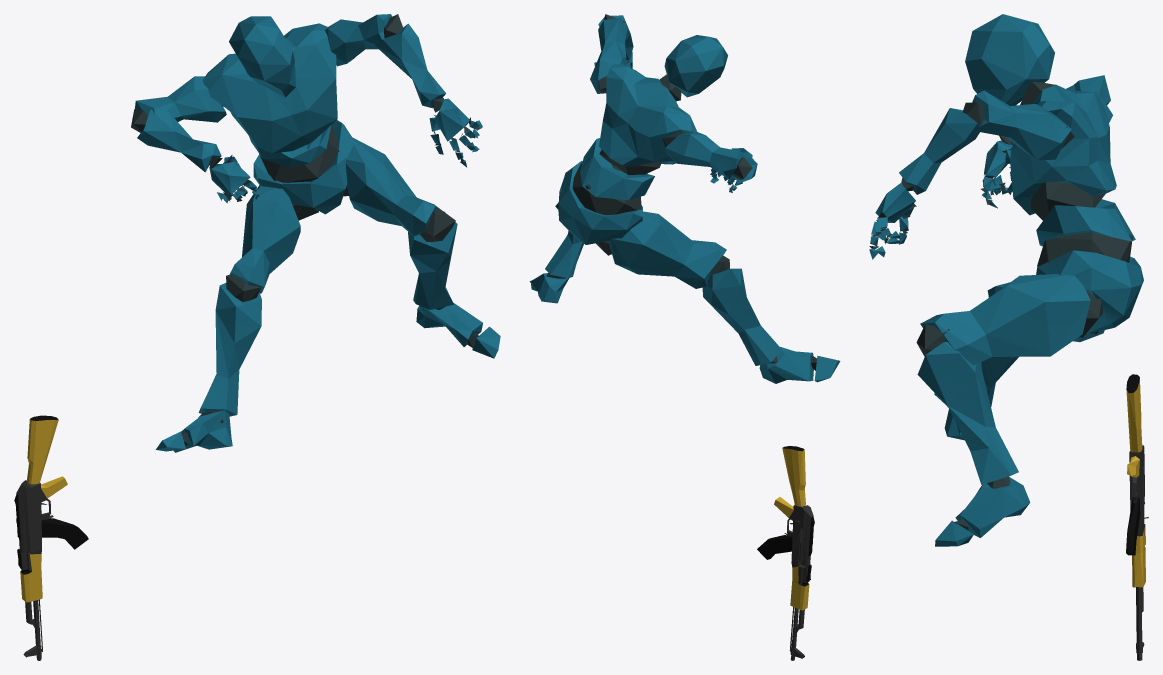
Rendered from EnemyDying_000086.obj.
3 renders of one model, left to right at view 1: azimuth 30°, elevation 25°; view 2: azimuth 150°, elevation 25°; view 3: azimuth 270°, elevation 25°, orthographic. The views are drawn at different scales.
Parts seen in each view (by area): view 1: Alpha_Surface, AK-47_Cube, Alpha_Joints; view 2: Alpha_Surface, AK-47_Cube, Alpha_Joints; view 3: Alpha_Surface, Alpha_Joints, AK-47_Cube.
Boxes of the visible parts, left/top/right/bottom form: Alpha_Surface: left=135, top=14, right=500, bottom=452; AK-47_Cube: left=14, top=415, right=88, bottom=660; Alpha_Joints: left=131, top=14, right=481, bottom=445; Alpha_Surface: left=529, top=15, right=840, bottom=383; AK-47_Cube: left=757, top=446, right=814, bottom=660; Alpha_Joints: left=546, top=14, right=816, bottom=370; Alpha_Surface: left=869, top=14, right=1143, bottom=546; Alpha_Joints: left=869, top=82, right=1132, bottom=530; AK-47_Cube: left=1126, top=374, right=1148, bottom=660.
Bounding box in the file's own units: 290 × 439 × 152.
